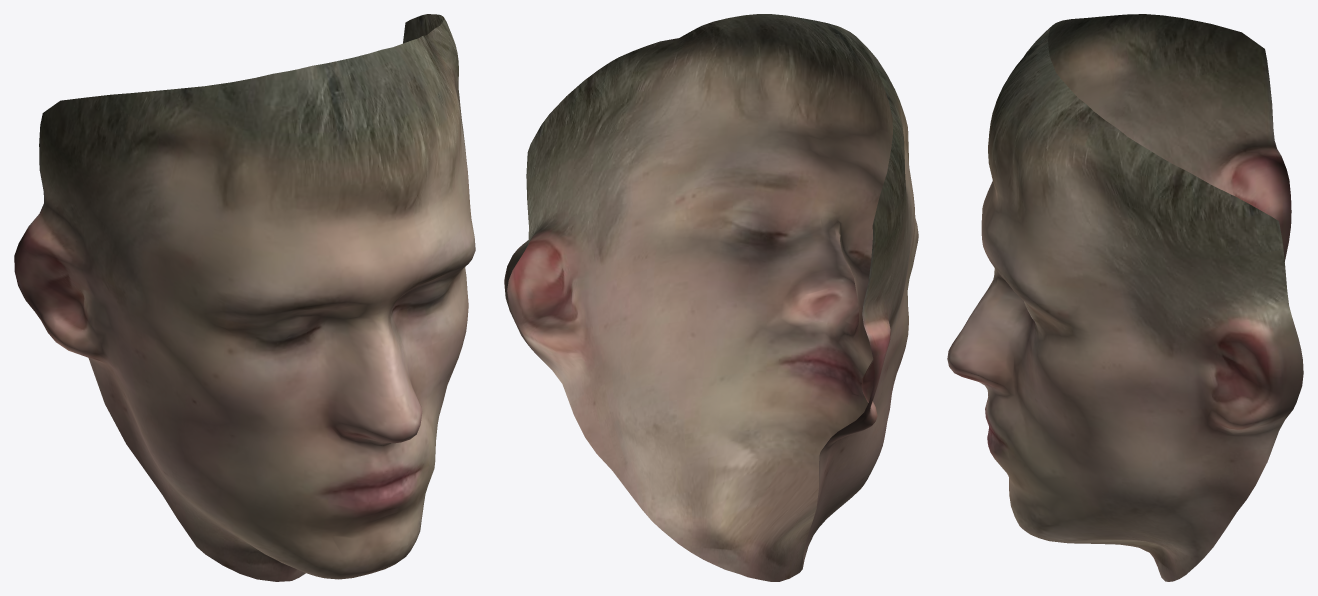
The model's file is headScanLow.glb.
The picture shows the model from 3 angles, left to right: view 1: azimuth 30°, elevation 25°; view 2: azimuth 150°, elevation 25°; view 3: azimuth 270°, elevation 25°; orthographic projection. The views are drawn at different scales.
Visible parts, largest first — view 1: Node; view 2: Node; view 3: Node.
Part boxes in pixels (left/top/right/bottom): Node: left=14, top=14, right=475, bottom=581; Node: left=504, top=14, right=918, bottom=581; Node: left=947, top=14, right=1303, bottom=581.
Size of the model in its own units: 187 by 249 by 152.
1 material, 1 textured.
